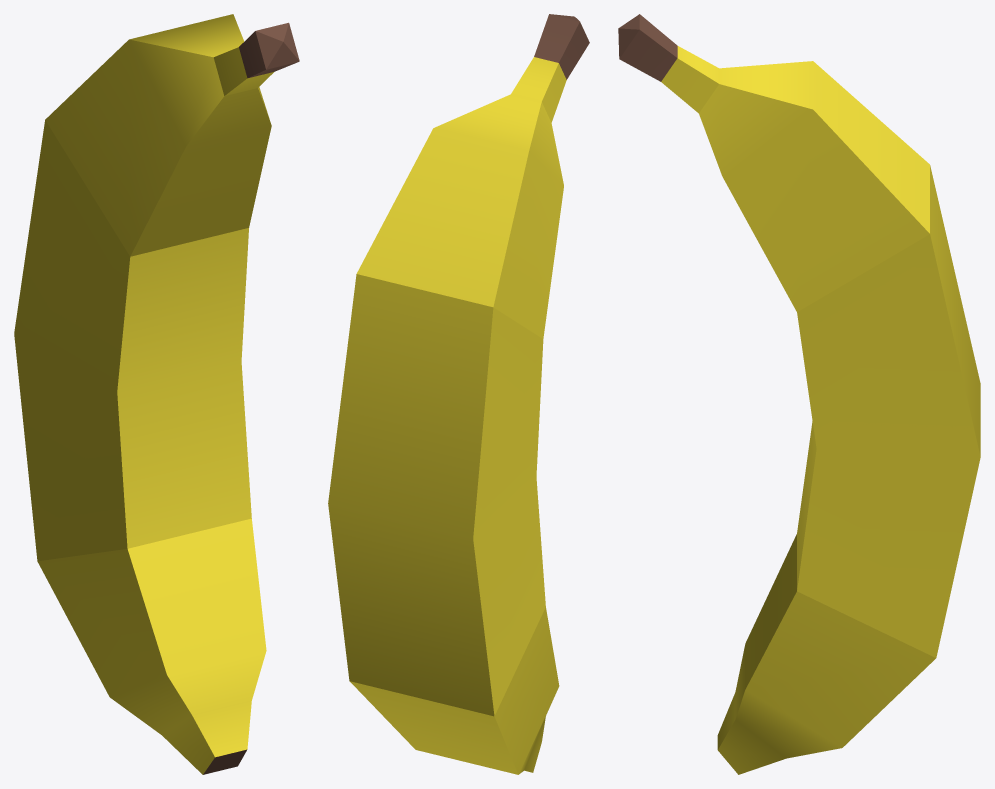
File: banana.glb
3 views of the same model, side by side, from view 1: azimuth 30°, elevation 25°; view 2: azimuth 150°, elevation 25°; view 3: azimuth 270°, elevation 25° (orthographic). The views are drawn at different scales.
Parts seen in each view (by area): view 1: pasted__pCube11 group; view 2: pasted__pCube11 group; view 3: pasted__pCube11 group.
Boxes of the visible parts, x1,y1,x2,y2 form: pasted__pCube11 group: (14, 14, 299, 774); pasted__pCube11 group: (328, 14, 589, 774); pasted__pCube11 group: (618, 14, 980, 774).
Bounding box in the file's own units: 0.1038 × 0.4898 × 0.2159.
